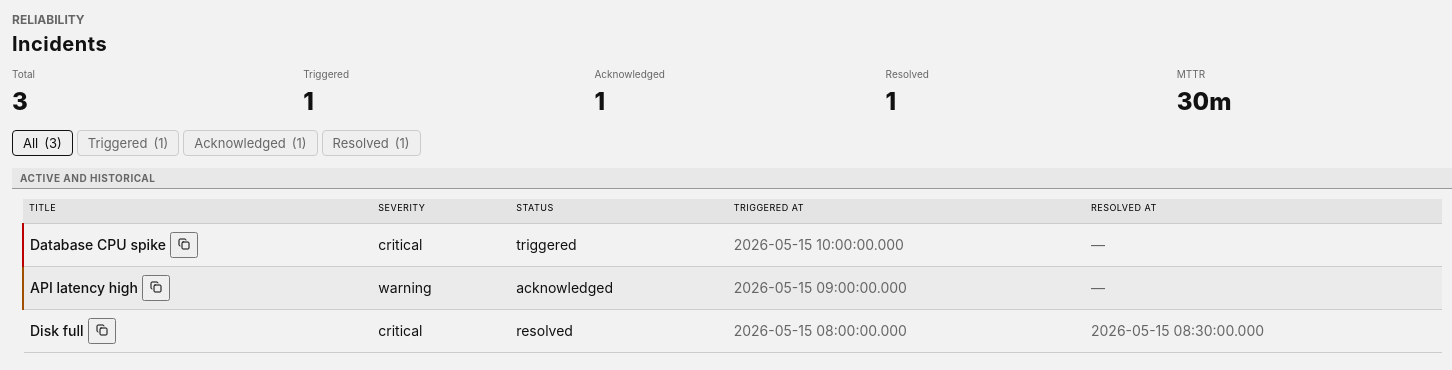
renders filter pills and filters table on click
Expected: the link "Database CPU spike" is shown, [30,235,166,255]
Expected: the link "API latency high" is shown, [30,278,138,298]
Note: Click Triggered pill
Click the button "Triggered (1)" at {"x": 128, "y": 143}, box [77,130,179,156]
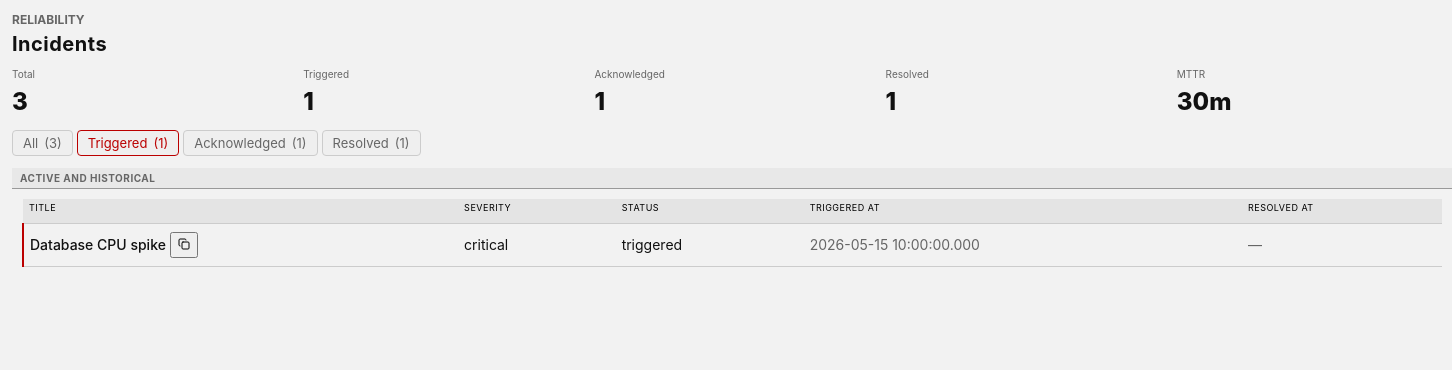
Expected: the link "Database CPU spike" is shown, [30,235,166,255]
Now the link "API latency high" is gone
Now the link "Disk full" is gone
